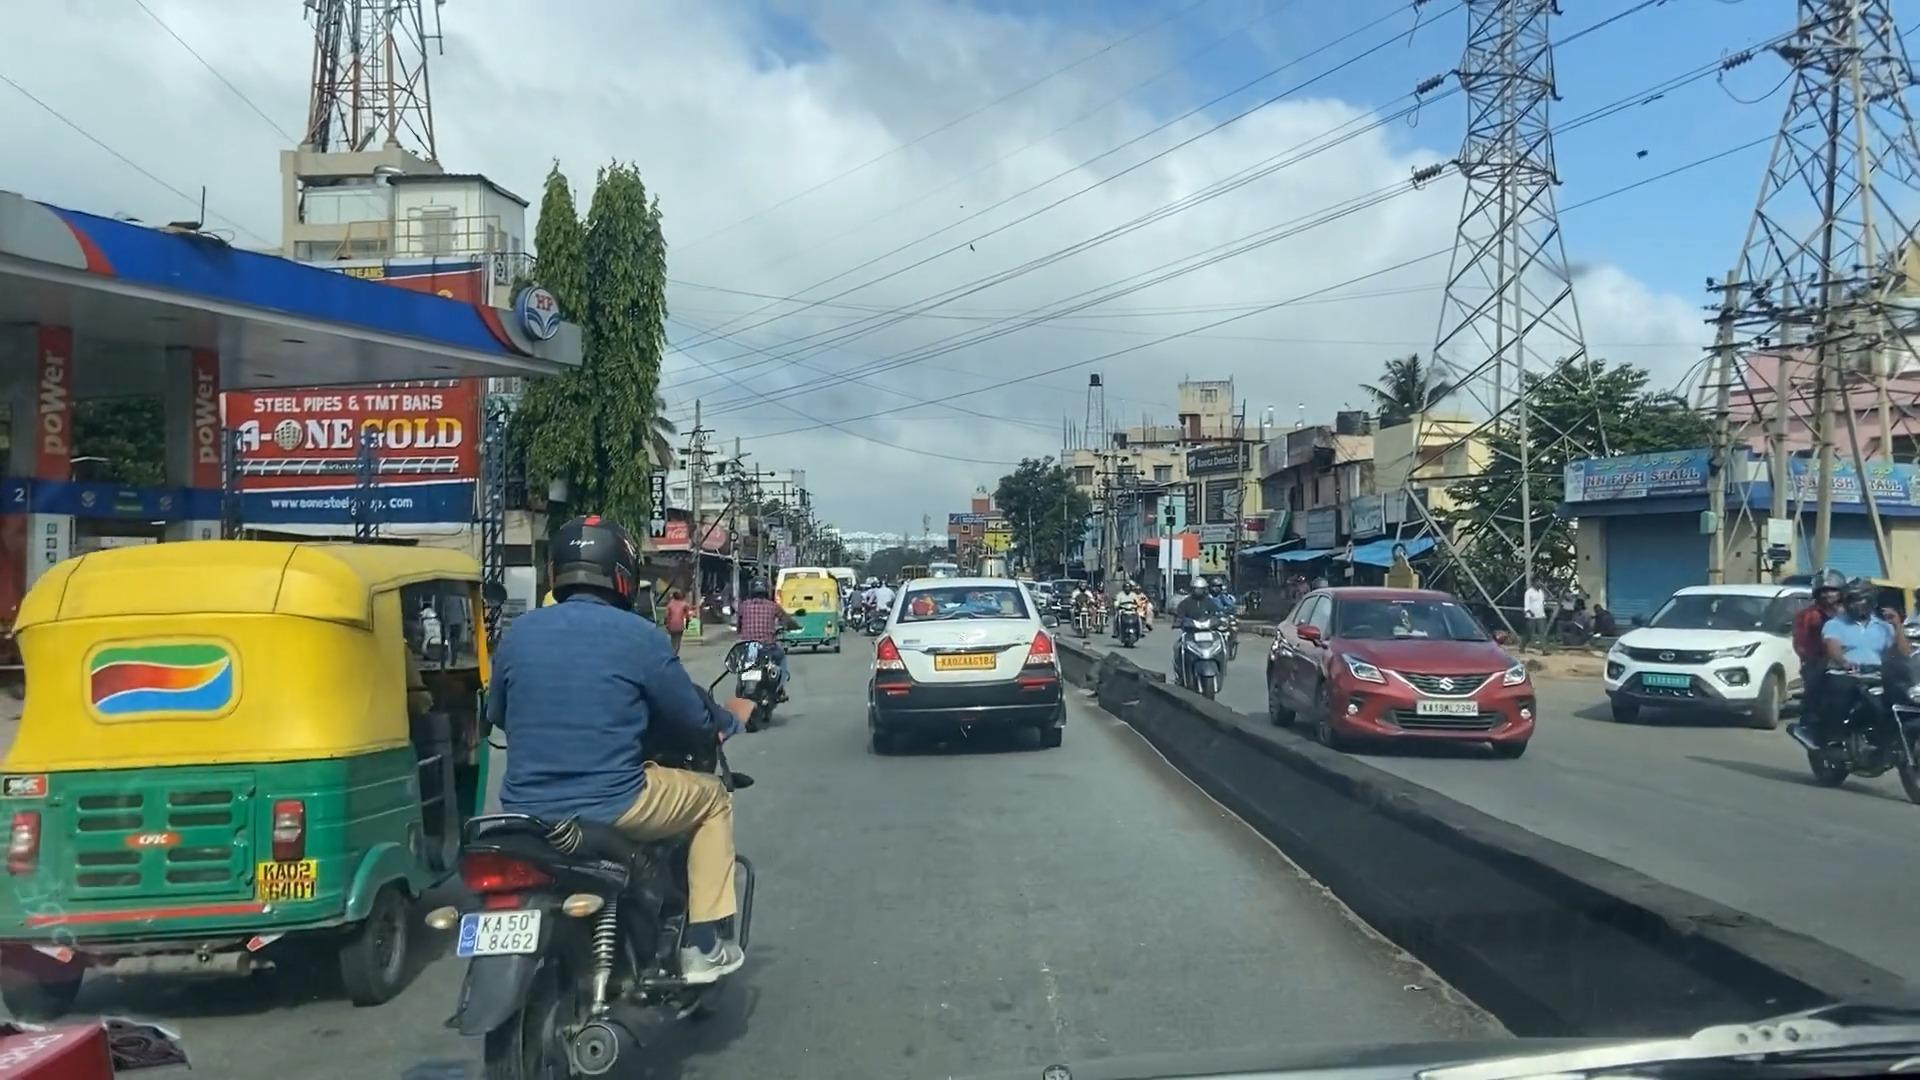LMV: (8, 550, 479, 969), (495, 488, 741, 1080), (872, 584, 1065, 748)
